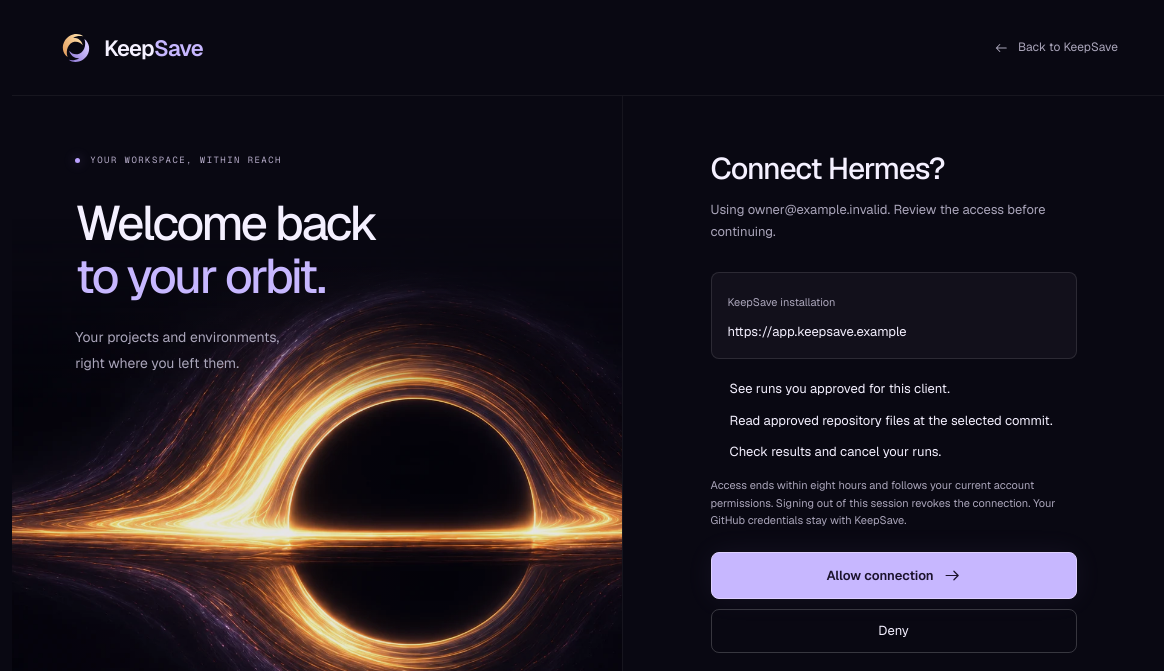
Test case: shows bounded read permissions and requires an explicit human decision
Expected: the heading "Connect Hermes?" is shown, [711,149,945,188]
Expected: the list item "Read approved repository files at the selected commit." is shown, [730,408,1077,432]
Click the button "Deny" at (894, 631), box [711,609,1077,653]
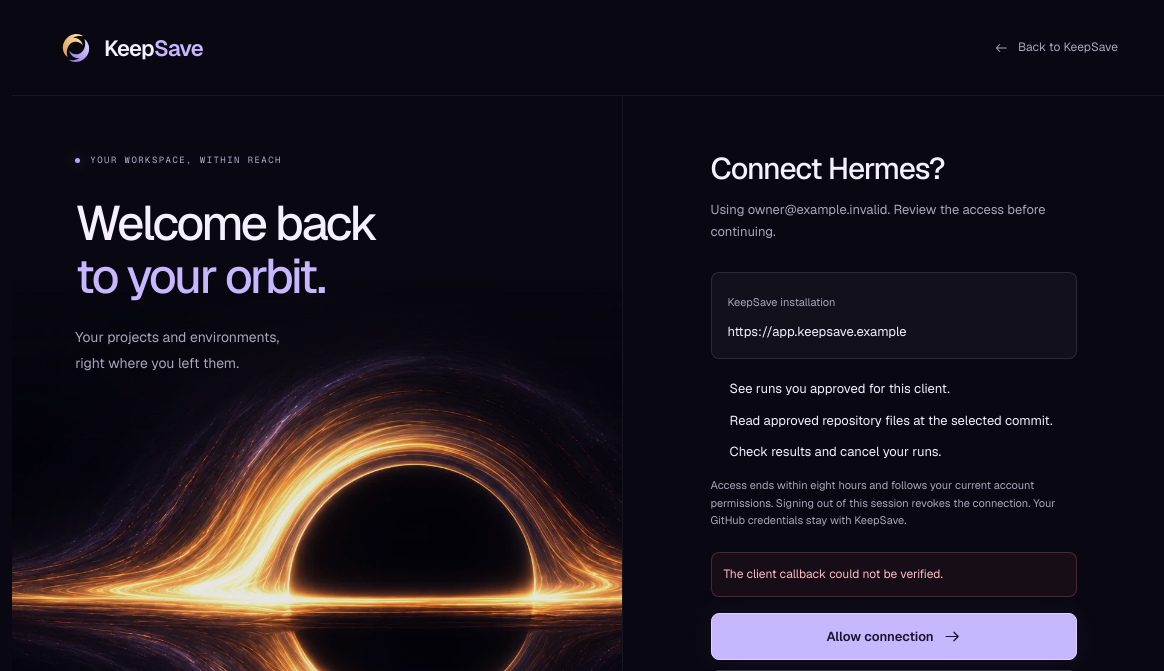
Result: the message shows "callback could not be verified" at [724,566,943,582]
